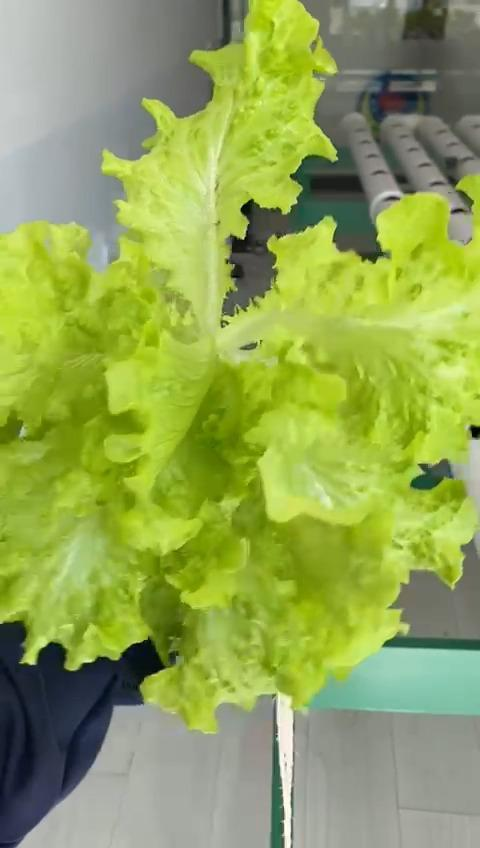Healthy Lettuce: (0, 0, 480, 736)
